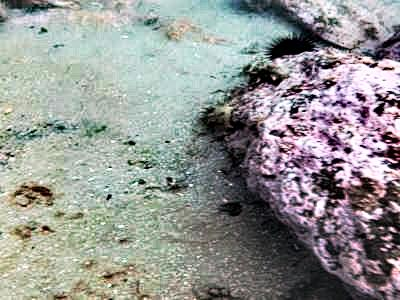urchin: (265, 32, 321, 58)
